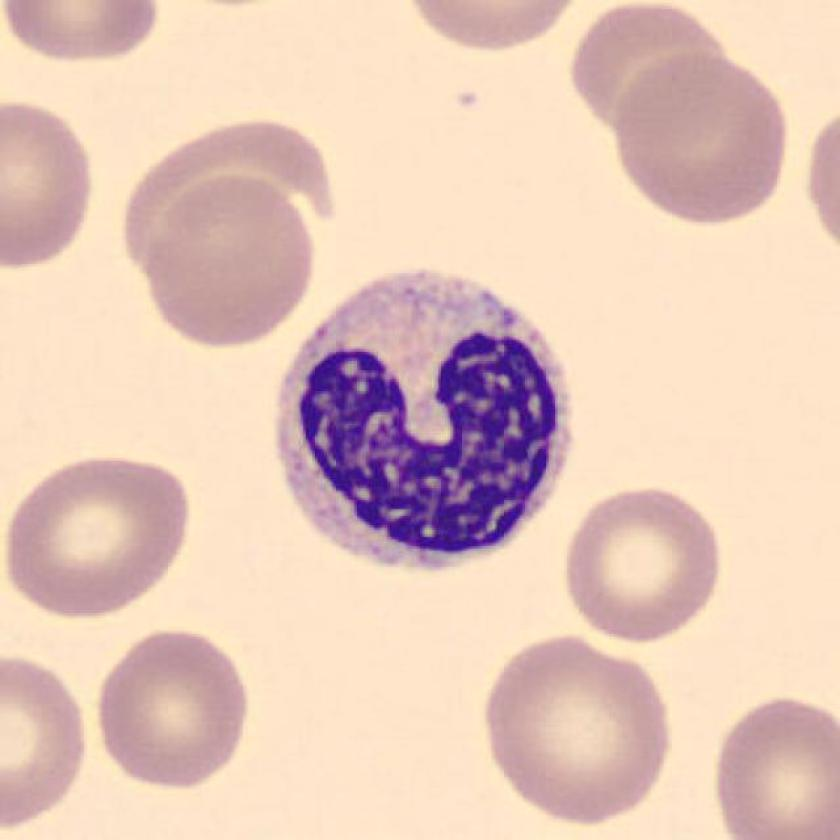neutrophil: (277, 272, 572, 571)
